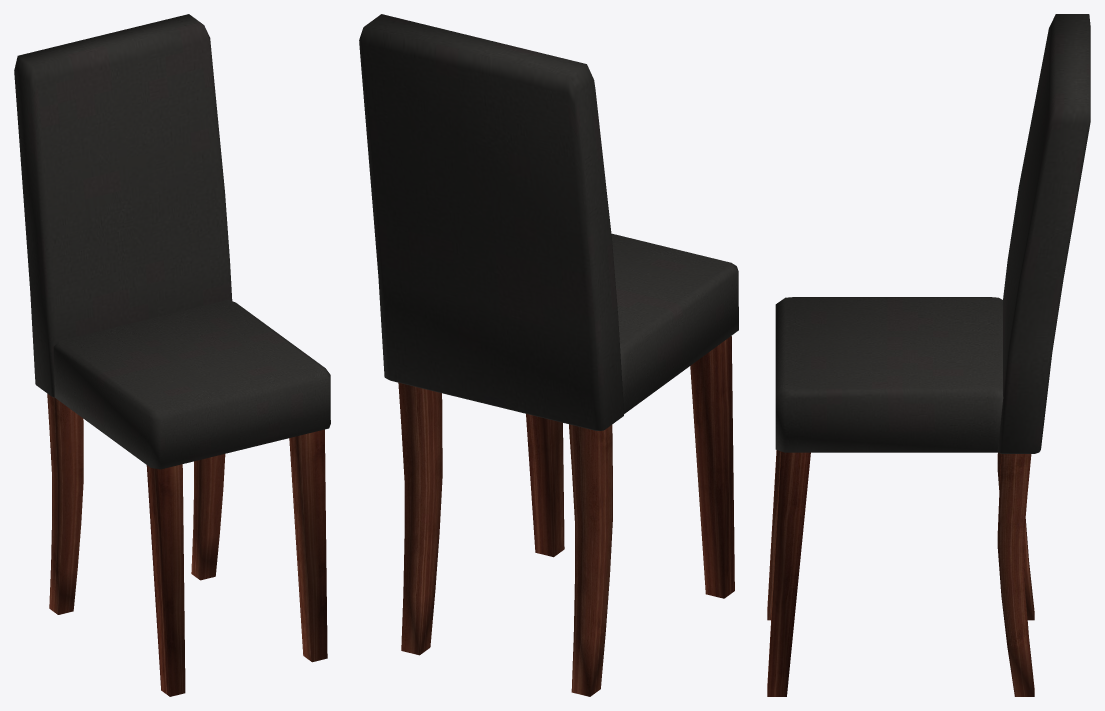
The model's file is leather_chair_low_poly_free_download.glb.
3 views of the same model, side by side, from view 1: azimuth 30°, elevation 25°; view 2: azimuth 150°, elevation 25°; view 3: azimuth 270°, elevation 25° (orthographic). The views are drawn at different scales.
Bounding box in the file's own units: 669 × 1862 × 919.
1 material, 1 textured.
